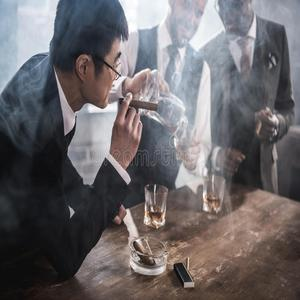cigarette: (120, 97, 162, 113)
